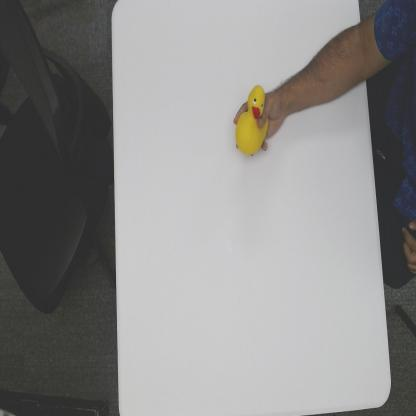Arm: (284, 24, 366, 118)
Duck: (234, 82, 270, 157)
Hand: (234, 88, 282, 152)
